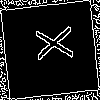X: (25, 25, 74, 64)
